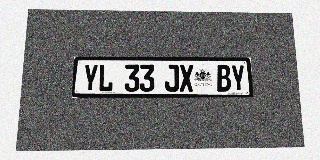3: (124, 64, 139, 92), (140, 64, 154, 92)
B: (216, 65, 231, 92)
J: (164, 64, 179, 92)
L: (98, 64, 113, 92)
X: (179, 65, 194, 92)
Y: (82, 64, 98, 92), (230, 65, 246, 92)
